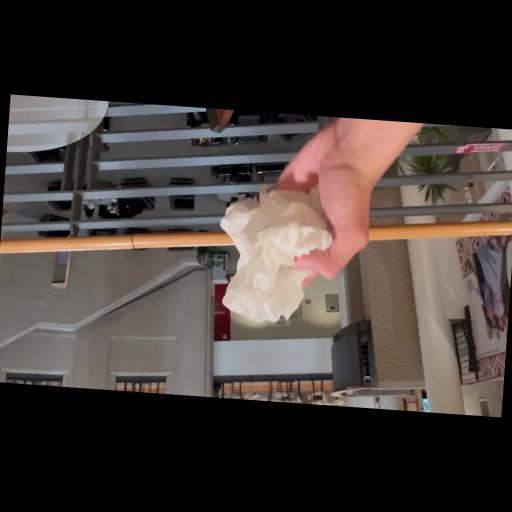napkin: (212, 185, 338, 330)
